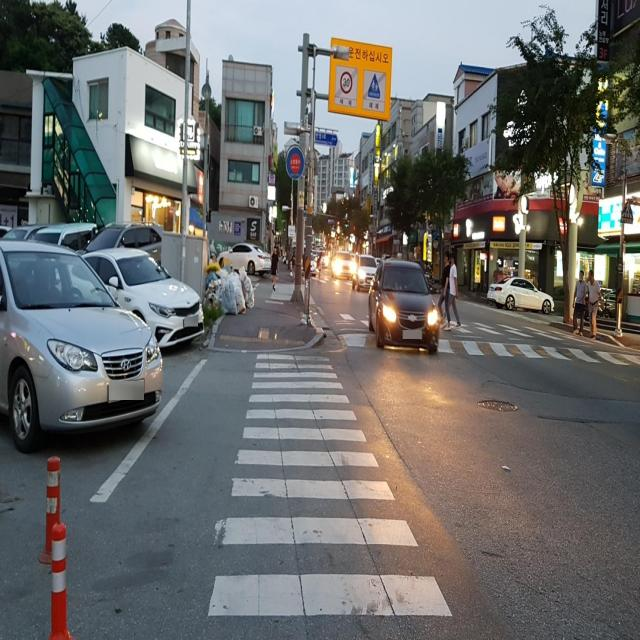횡단보도: (204, 348, 456, 640), (332, 311, 632, 363)
